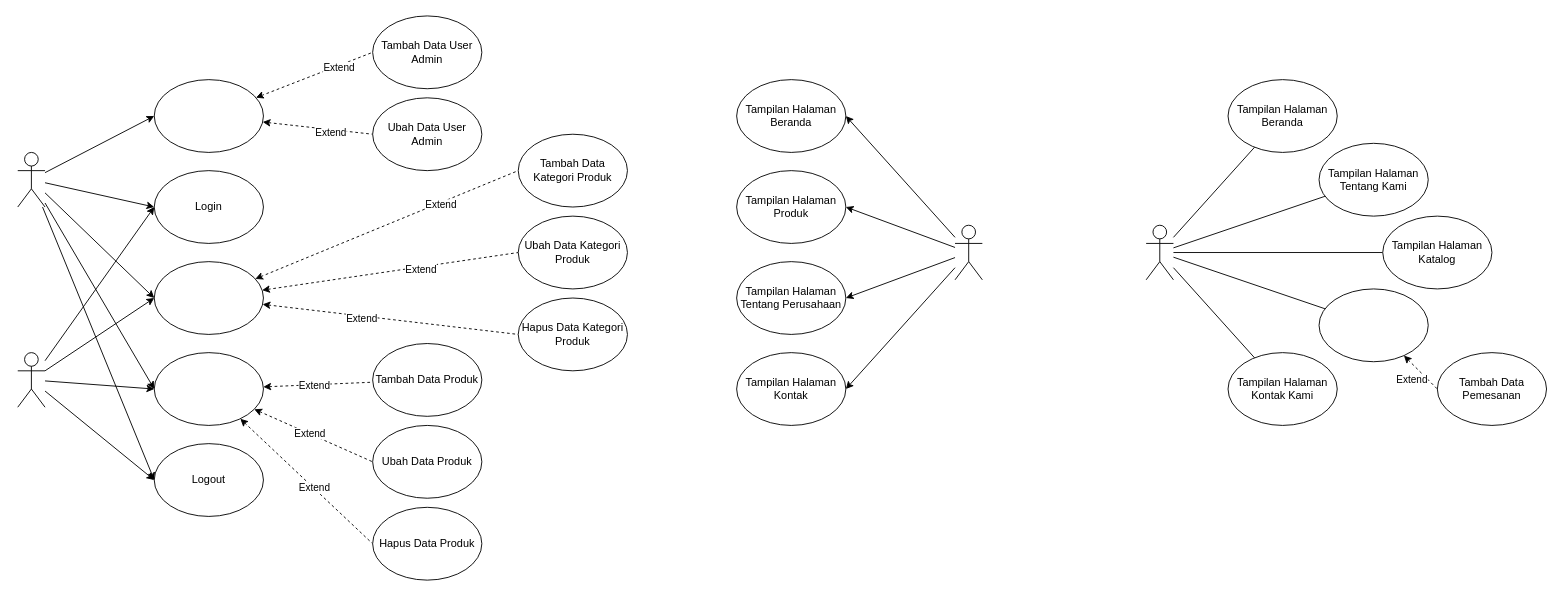
The diagram is 1562 pixels wide and 596 high, and some of its shapes have lost their labels. The shapes that lost their labels are listed below. From the top down, each one's centre as x and y in pixels, then its label:
At pixel 208 115: "Kelola User Admin".
At pixel 31 179: "Super".
At pixel 968 252: "Guest".
At pixel 1159 252: "Pengguna".
At pixel 208 297: "Kelola Kategori Produk".
At pixel 1373 325: "Tampilan Halaman Pemesanan".
At pixel 31 379: "Admin".
At pixel 208 388: "Kelola Produk".
